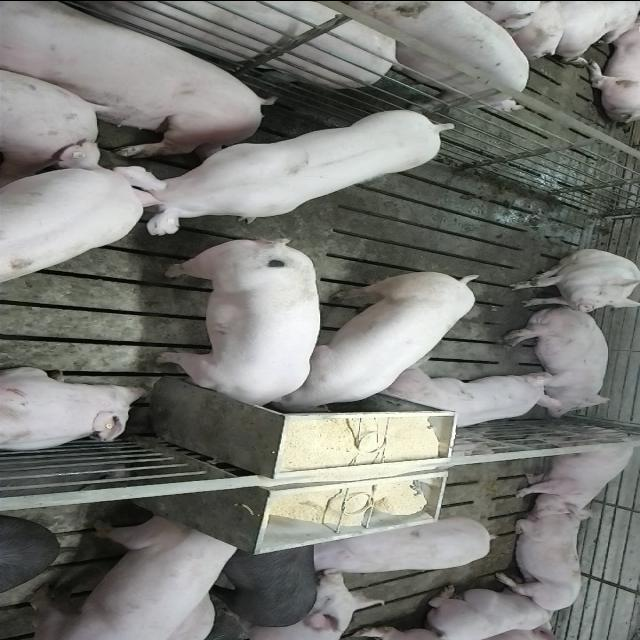Feeding: (272, 264, 480, 412), (156, 232, 322, 408)
Lateral_lying: (1, 5, 272, 158), (500, 304, 616, 418)
Sitting: (506, 248, 638, 312)
Standing: (112, 104, 454, 230), (59, 0, 408, 89), (22, 514, 246, 638), (0, 139, 157, 285), (329, 0, 535, 110), (310, 516, 498, 576), (509, 428, 638, 514), (212, 542, 322, 626)
Sternal_lying: (0, 366, 150, 454), (382, 364, 564, 432), (499, 508, 597, 612), (423, 584, 571, 639)
